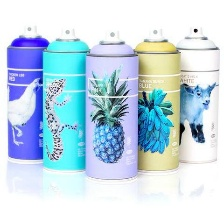aerosol_cans: (82, 25, 141, 185), (126, 25, 183, 176), (39, 24, 95, 176), (3, 20, 58, 166), (170, 20, 221, 166)
